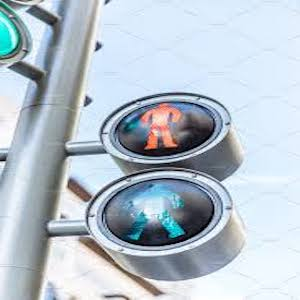green: (130, 176, 189, 246)
red: (146, 101, 176, 151)
